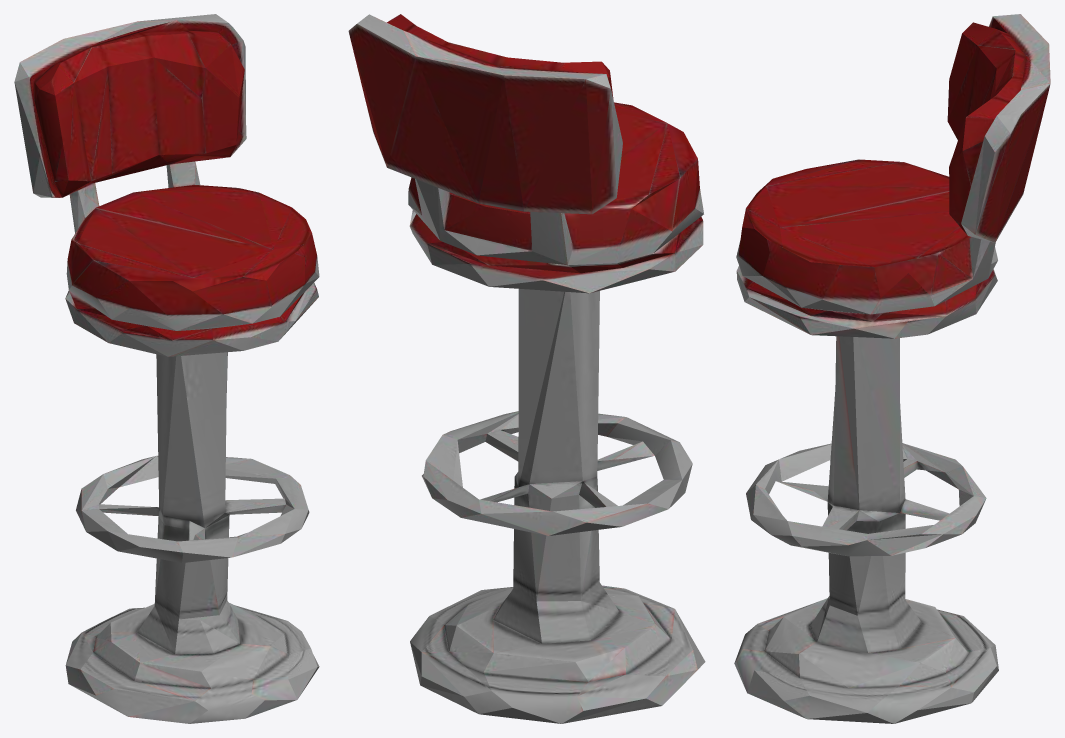
Rendered from banqueta_bar.glb.
3 renders of one model, left to right at view 1: azimuth 30°, elevation 25°; view 2: azimuth 150°, elevation 25°; view 3: azimuth 270°, elevation 25°, orthographic. The views are drawn at different scales.
Visible parts, largest first — view 1: Mesh_0; view 2: Mesh_0; view 3: Mesh_0.
Boxes of the visible parts, x1,y1,x2,y2 form: Mesh_0: (14,14,319,723); Mesh_0: (348,14,705,723); Mesh_0: (734,14,1050,723).
Bounding box in the file's own units: 0.3266 × 0.8 × 0.3769.
Materials: 1 (1 with a texture image).
